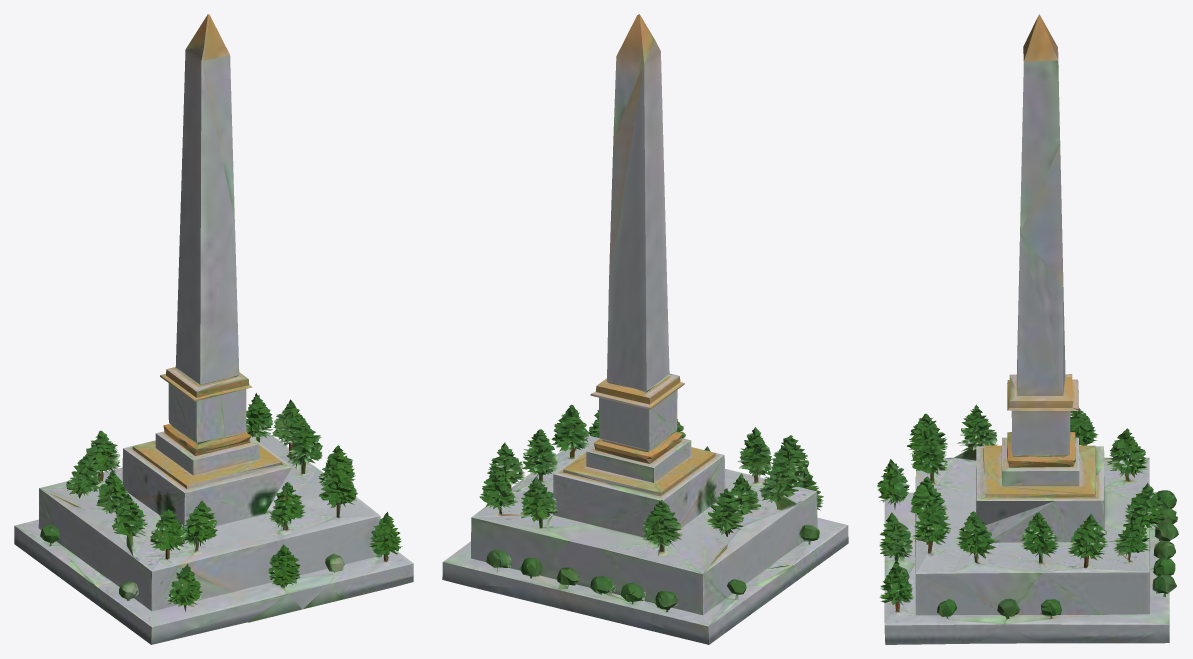
File: lm_founders_monument.glb
3 views of the same model, side by side, from view 1: azimuth 30°, elevation 25°; view 2: azimuth 150°, elevation 25°; view 3: azimuth 270°, elevation 25° (orthographic). The views are drawn at different scales.
Size of the model in its own units: 0.9779 by 1.9 by 0.9202.
Materials: 1 (1 with a texture image).
